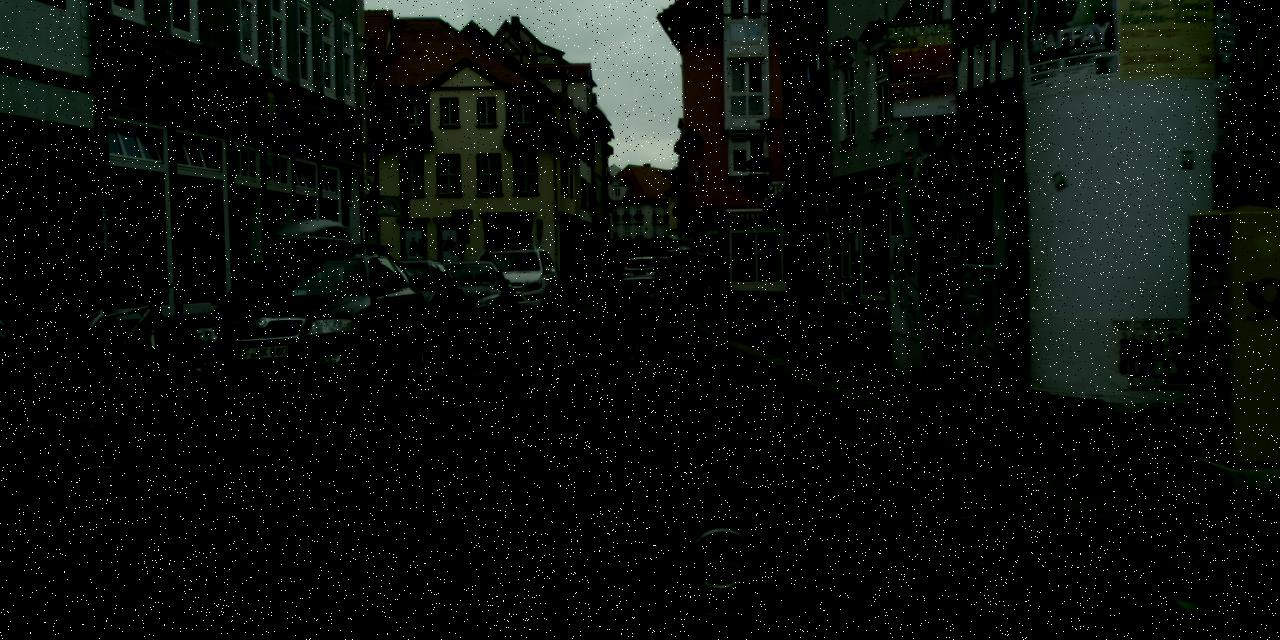ped: (694, 244, 712, 290), (705, 245, 723, 290), (594, 252, 606, 284), (579, 254, 591, 284), (604, 253, 616, 281), (614, 242, 624, 264), (620, 241, 629, 264), (630, 243, 638, 263), (606, 242, 614, 262), (666, 238, 674, 258)
